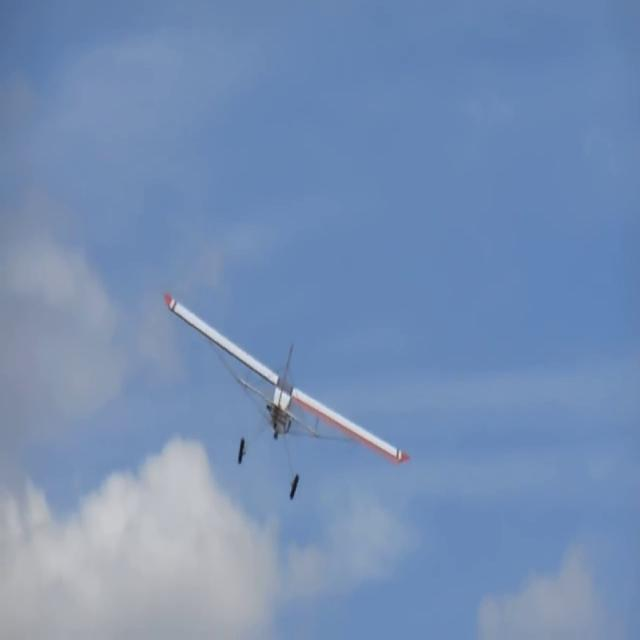iha: (166, 305, 408, 502)
